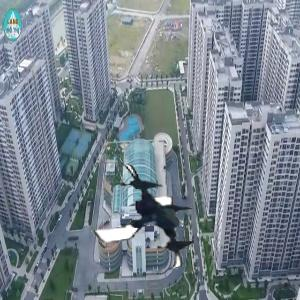drone: (78, 156, 202, 280)
